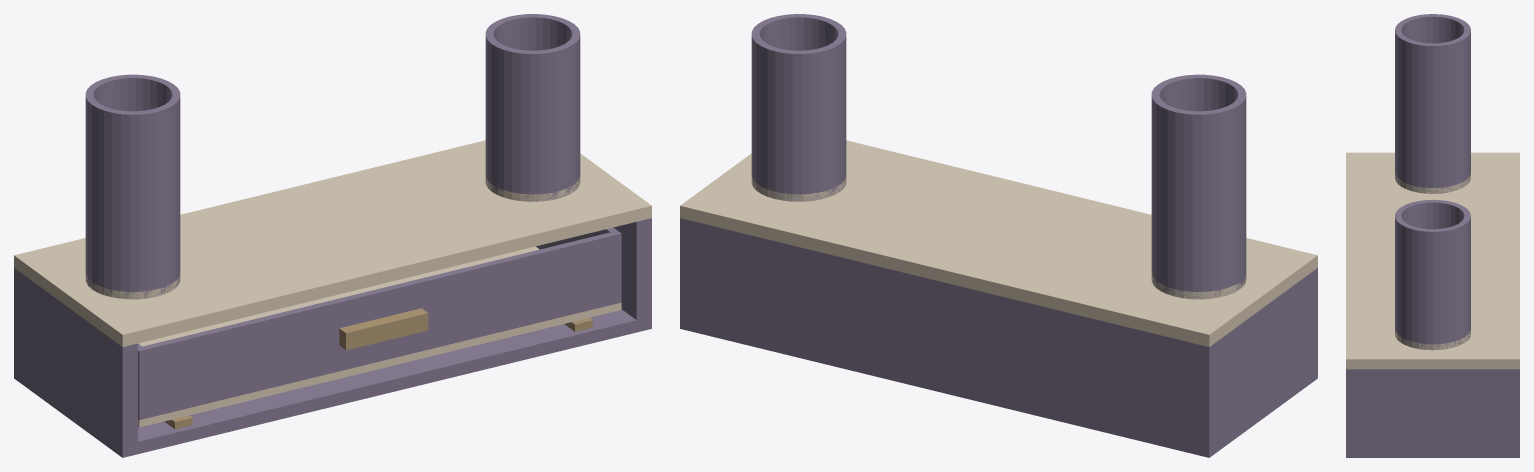
File: brush-cup-model.glb
3 renders of one model, left to right at view 1: azimuth 30°, elevation 25°; view 2: azimuth 150°, elevation 25°; view 3: azimuth 270°, elevation 25°, orthographic. The views are drawn at different scales.
Visible parts, largest first — view 1: storage-roof, storage-drawer-front, storage-cup-left-wall, storage-cup-right-wall, storage-base, storage-side-left, storage-drawer-bottom, storage-side-right, storage-drawer-handle, storage-drawer-right, storage-cup-right-bottom, storage-cup-left-bottom (+1 smaller); view 2: storage-roof, storage-back, storage-cup-left-wall, storage-cup-right-wall, storage-side-left, storage-base, storage-side-right, storage-cup-right-bottom, storage-cup-left-bottom; view 3: storage-roof, storage-side-right, storage-cup-left-wall, storage-cup-right-wall, storage-base, storage-cup-left-bottom, storage-cup-right-bottom.
Part boxes in pixels (<box>): storage-roof: <box>14,140,651,346</box>; storage-drawer-front: <box>142,232,614,418</box>; storage-cup-left-wall: <box>85,74,180,299</box>; storage-cup-right-wall: <box>485,14,580,201</box>; storage-base: <box>14,309,651,457</box>; storage-side-left: <box>14,268,137,445</box>; storage-drawer-bottom: <box>138,246,621,427</box>; storage-side-right: <box>613,218,651,319</box>; storage-drawer-handle: <box>339,308,428,350</box>; storage-drawer-right: <box>536,227,621,303</box>; storage-cup-right-bottom: <box>485,177,580,201</box>; storage-cup-left-bottom: <box>85,274,180,299</box>; storage-roof: <box>680,140,1317,346</box>; storage-back: <box>695,222,1193,441</box>; storage-cup-left-wall: <box>1151,74,1246,299</box>; storage-cup-right-wall: <box>751,14,846,201</box>; storage-side-left: <box>1194,268,1317,445</box>; storage-base: <box>680,316,1317,457</box>; storage-side-right: <box>680,218,695,319</box>; storage-cup-right-bottom: <box>751,176,846,201</box>; storage-cup-left-bottom: <box>1151,274,1246,299</box>; storage-roof: <box>1346,152,1519,369</box>; storage-side-right: <box>1346,369,1519,447</box>; storage-cup-left-wall: <box>1395,14,1470,193</box>; storage-cup-right-wall: <box>1395,200,1470,350</box>; storage-base: <box>1346,448,1519,457</box>; storage-cup-left-bottom: <box>1395,173,1470,193</box>; storage-cup-right-bottom: <box>1395,329,1470,350</box>.
Bounding box in the file's own units: 0.45 × 0.25 × 0.16.
